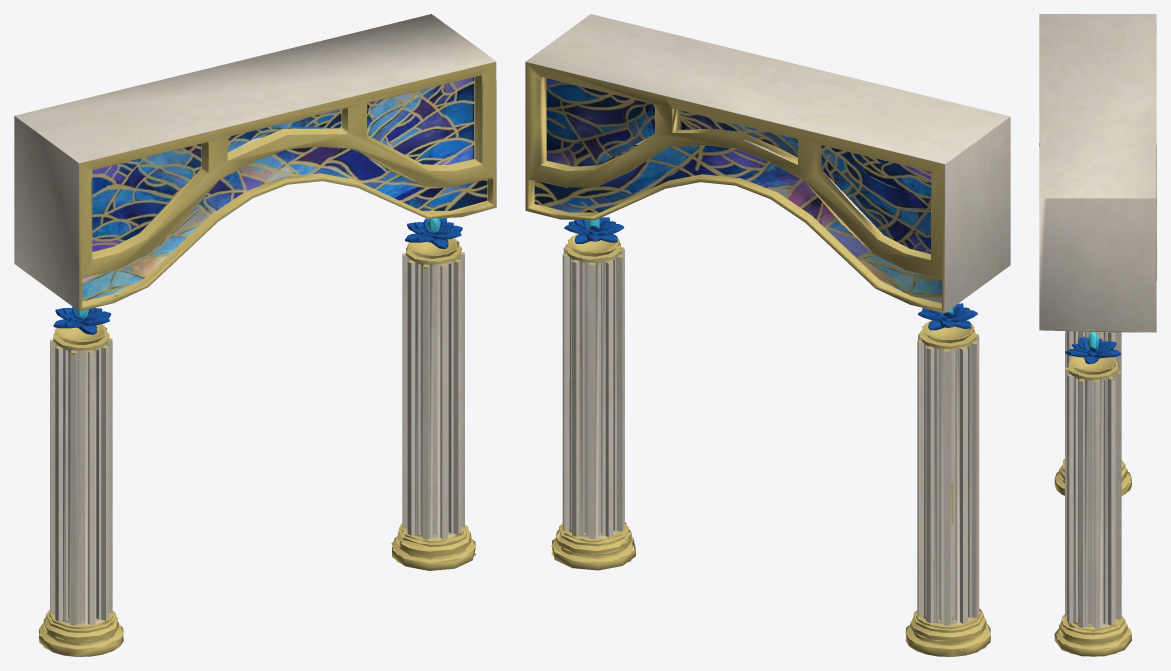
Rendered from archway_lowPoly.glb.
The picture shows the model from 3 angles, left to right: view 1: azimuth 30°, elevation 25°; view 2: azimuth 150°, elevation 25°; view 3: azimuth 270°, elevation 25°; orthographic projection. The views are drawn at different scales.
Parts seen in each view (by area): view 1: archway_polySurface37; view 2: archway_polySurface37; view 3: archway_polySurface37.
Boxes of the visible parts, x1,y1,x2,y2 form: archway_polySurface37: (14,14,496,656); archway_polySurface37: (525,14,1010,656); archway_polySurface37: (1039,14,1156,656).
Size of the model in its own units: 1.73 by 1.96 by 0.4575.
Materials: 7 (3 with a texture image).
